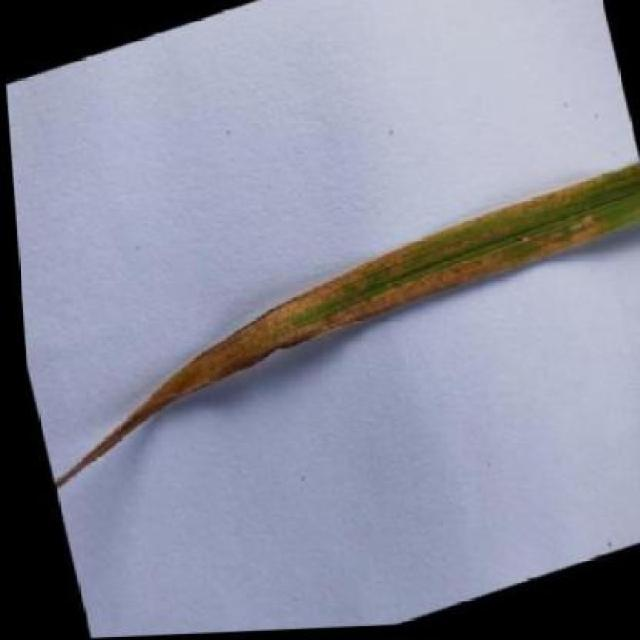Rice False Smut: (48, 168, 640, 486)
